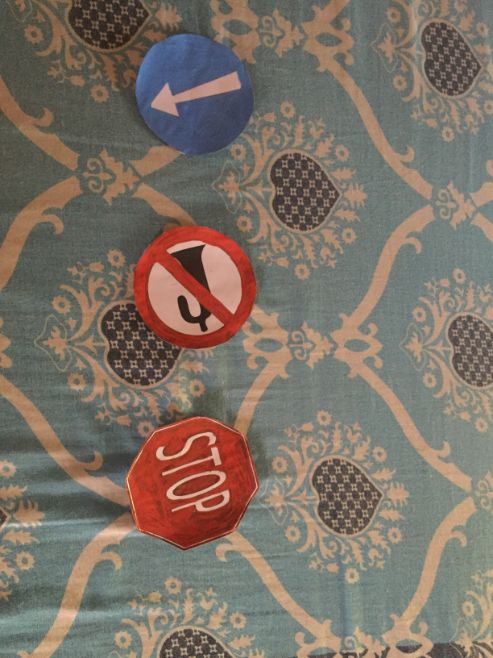keep-left: (133, 30, 261, 158)
no-horn: (134, 222, 264, 352)
stop: (126, 417, 263, 554)
